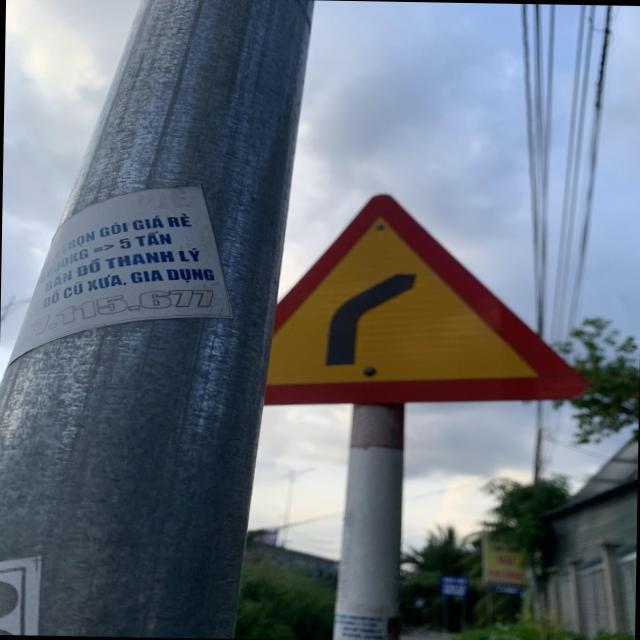Duong_Nguoi_Di_Bo_Cat_Ngang: (258, 186, 582, 394)
